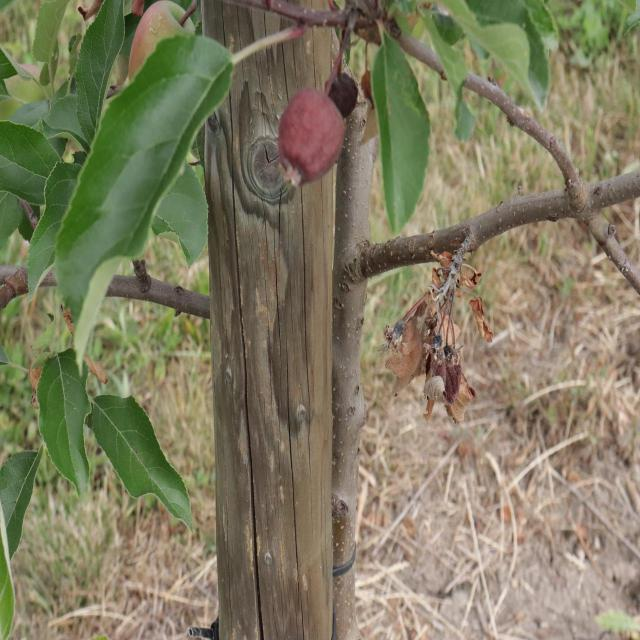-FireBlight-: (377, 238, 498, 418)
